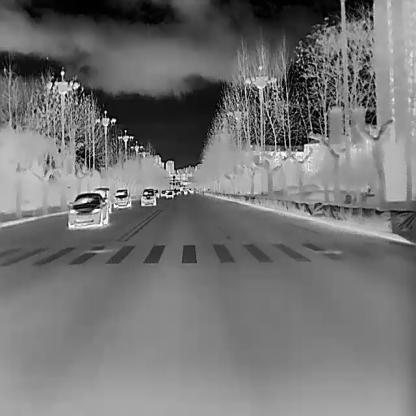car: (67, 191, 107, 227), (113, 187, 132, 207), (140, 188, 156, 206), (166, 191, 173, 199), (160, 189, 166, 197)
